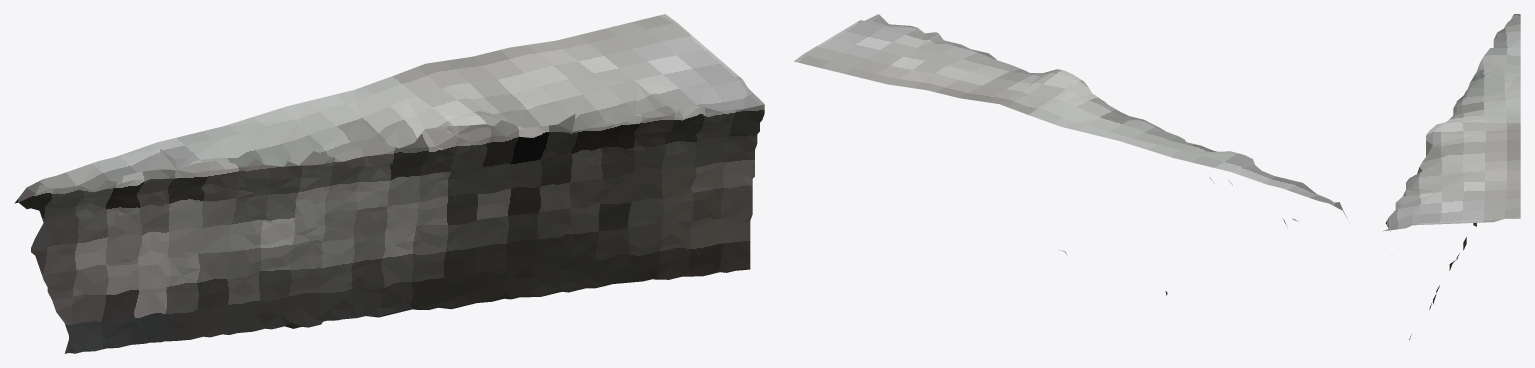
The picture shows the model from 3 angles, left to right: view 1: azimuth 30°, elevation 25°; view 2: azimuth 150°, elevation 25°; view 3: azimuth 270°, elevation 25°; orthographic projection. The views are drawn at different scales.
Size of the model in its own units: 0.2982 by 0.0885 by 0.0789.
1 material, 1 textured.
